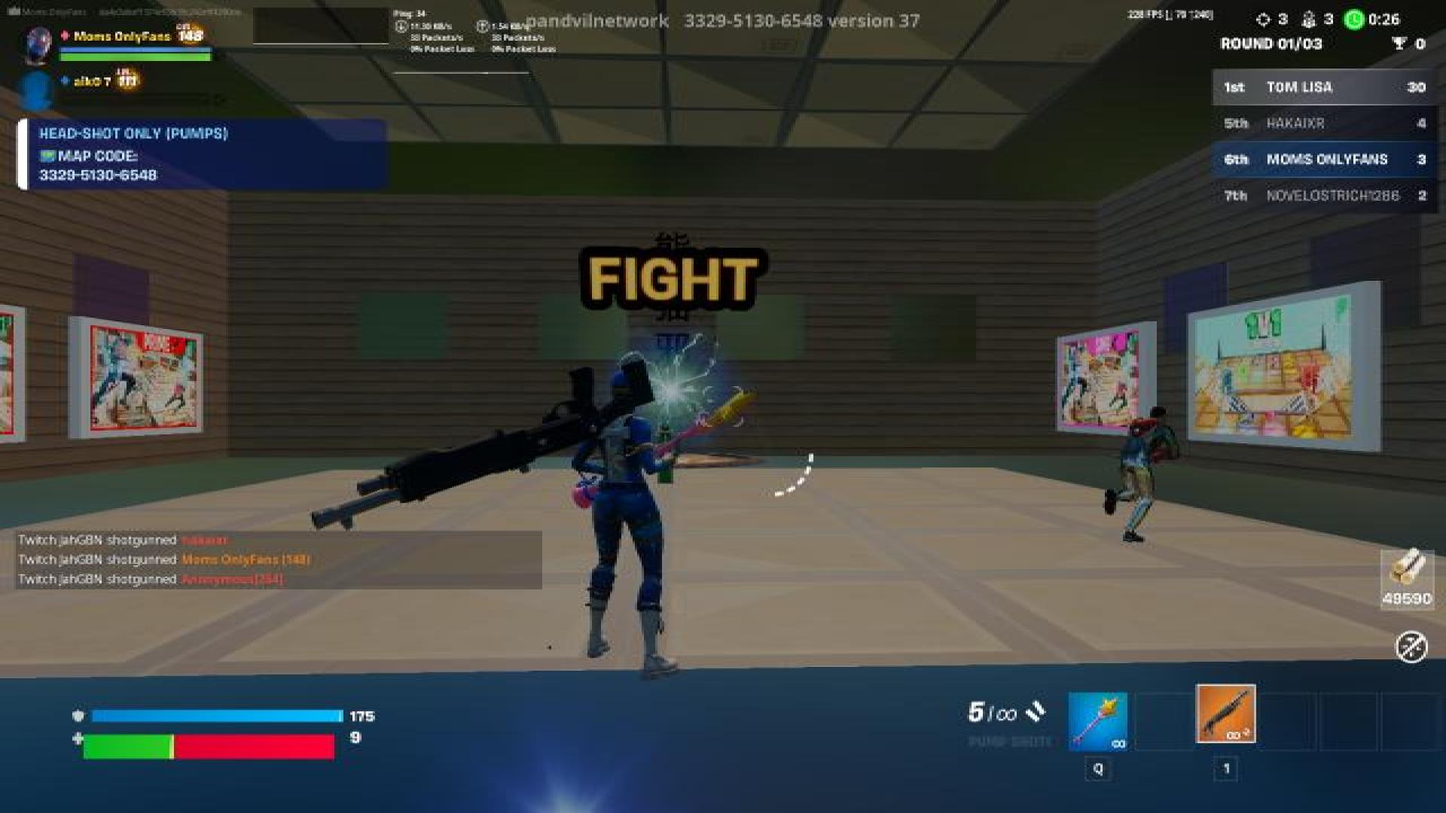player: (574, 363, 694, 676), (1117, 403, 1181, 539)
